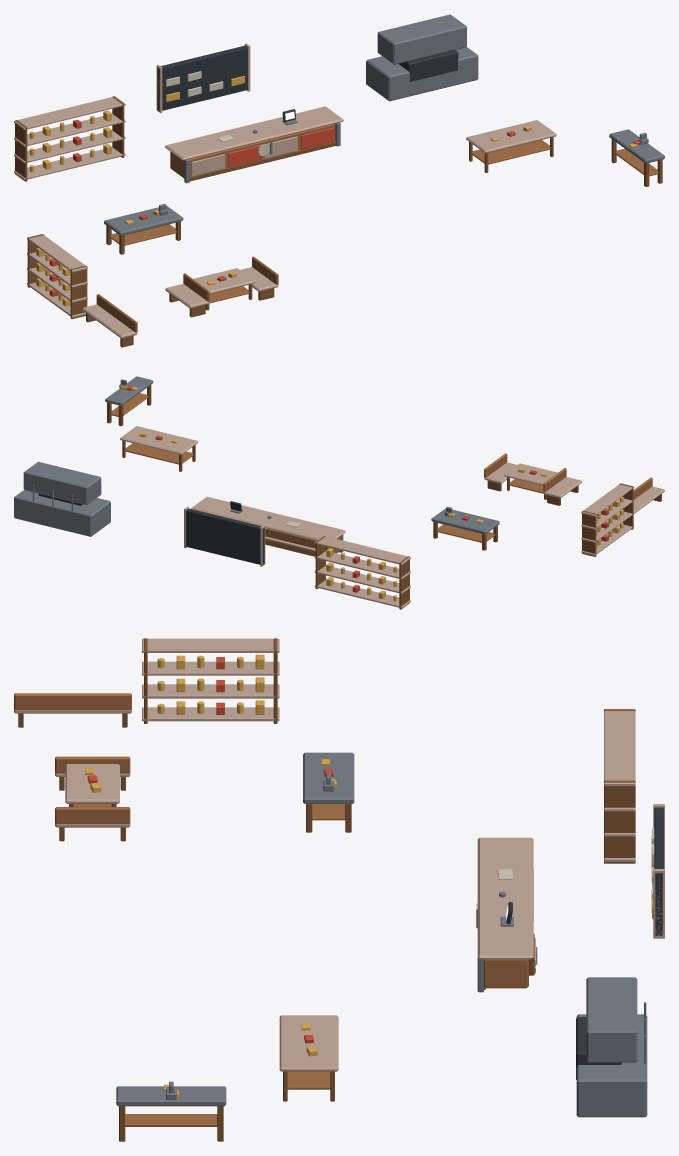
Rendered from redpot_service_kitchen.glb.
3 views of the same model, one above another, from view 1: azimuth 30°, elevation 25°; view 2: azimuth 150°, elevation 25°; view 3: azimuth 270°, elevation 25° (orthographic). The views are drawn at different scales.
Size of the model in its own units: 25.9 by 2.76 by 16.55.
